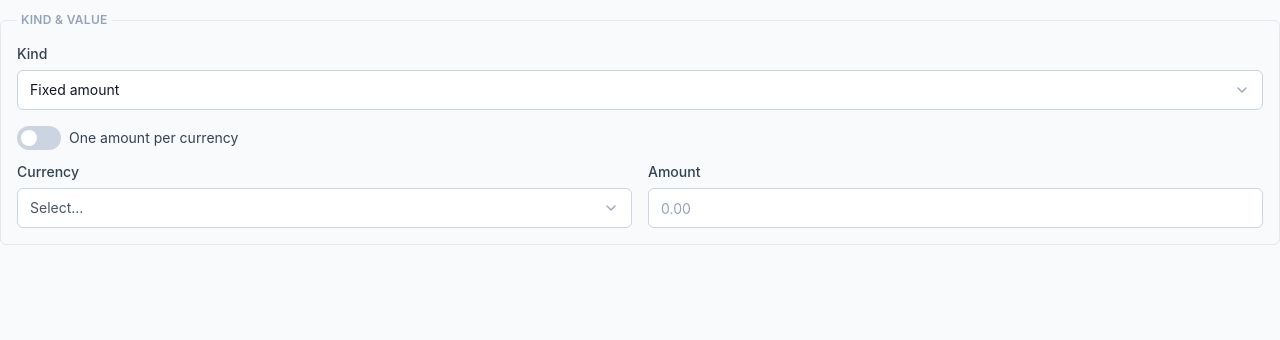
Test: RewardValueEditor › offers only the tenant currencies the endpoint returned — never a hardcoded list
Click the dropdown named "currency" at coordinates (57, 208), box [17, 188, 632, 228]
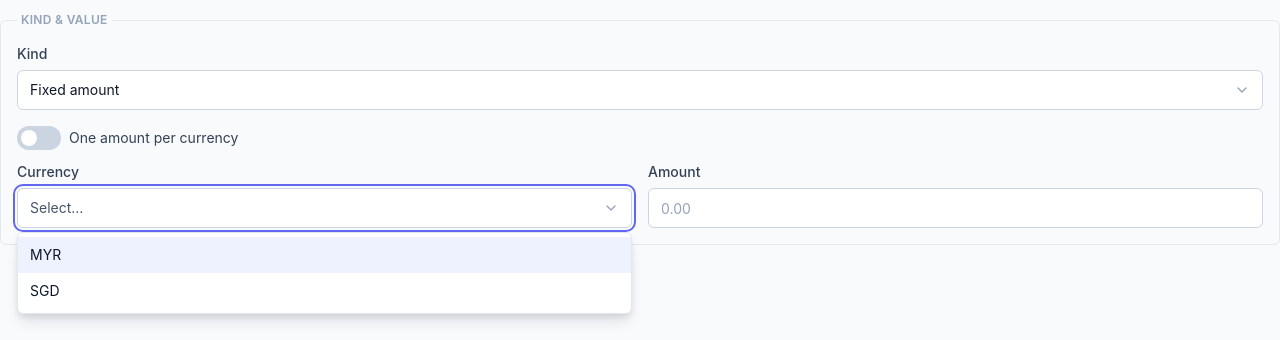
Expected: the option "MYR" is shown, [18, 237, 631, 273]
Expected: the option "SGD" is shown, [30, 282, 60, 299]
